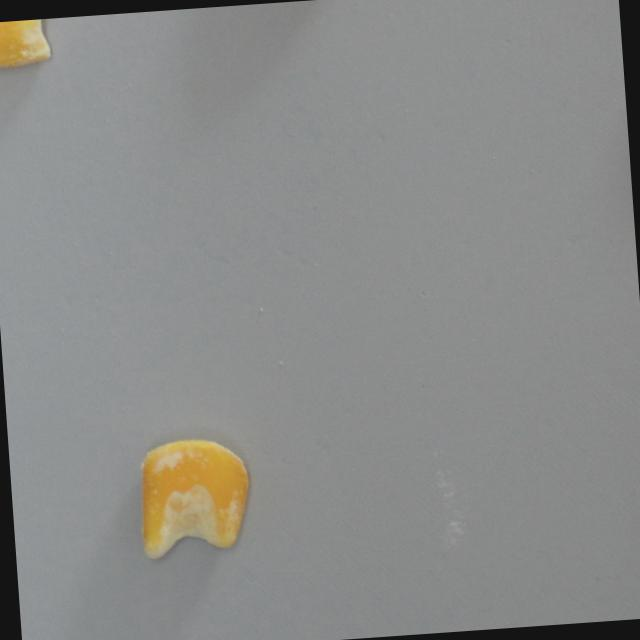pelicula: (133, 431, 253, 558), (0, 18, 54, 69)
